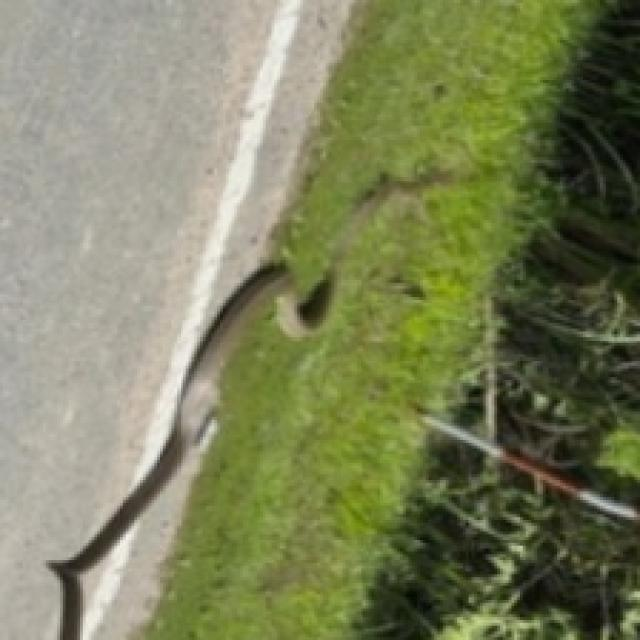king cobra: (143, 0, 637, 637), (146, 0, 583, 637), (0, 0, 274, 637), (500, 131, 637, 500), (217, 0, 331, 291)
